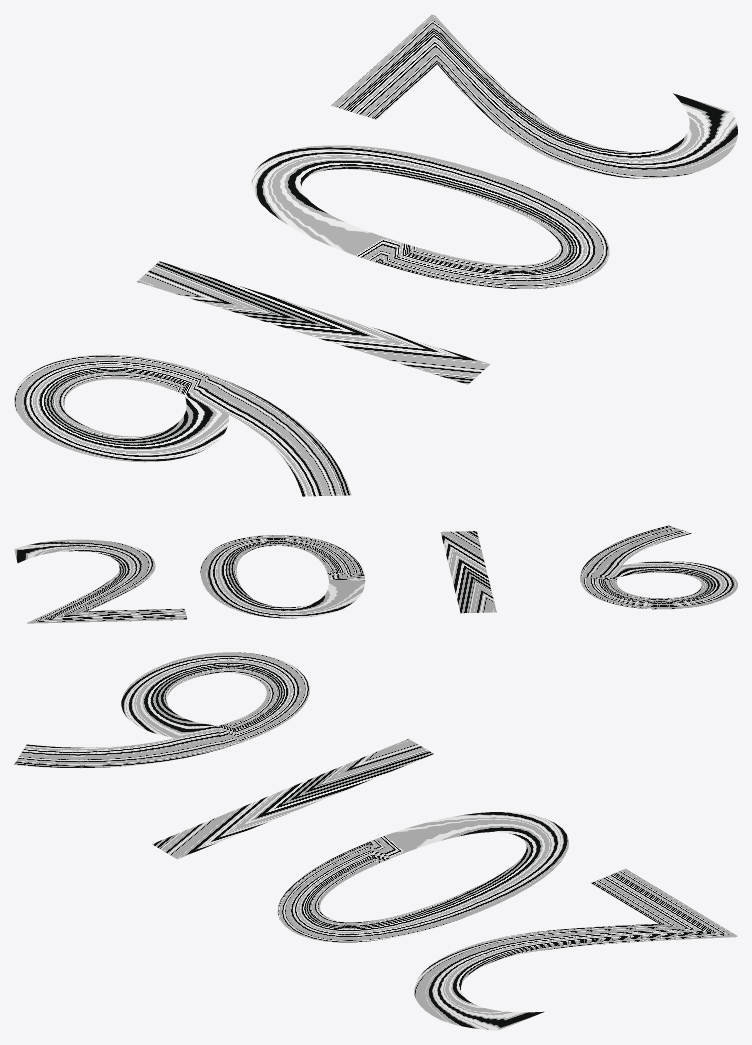
File: sadas.glb
3 renders of one model, top to bottom at view 1: azimuth 30°, elevation 25°; view 2: azimuth 150°, elevation 25°; view 3: azimuth 270°, elevation 25°, orthographic. The views are drawn at different scales.
Parts seen in each view (by area): view 1: sadas; view 2: sadas; view 3: sadas.
Boxes of the visible parts, x1,y1,x2,y2 form: sadas: (14, 14, 737, 496); sadas: (14, 525, 737, 623); sadas: (14, 652, 737, 1030).
Bounding box in the file's own units: 4.59 × 0.2289 × 3.89.
1 material, 1 textured.
